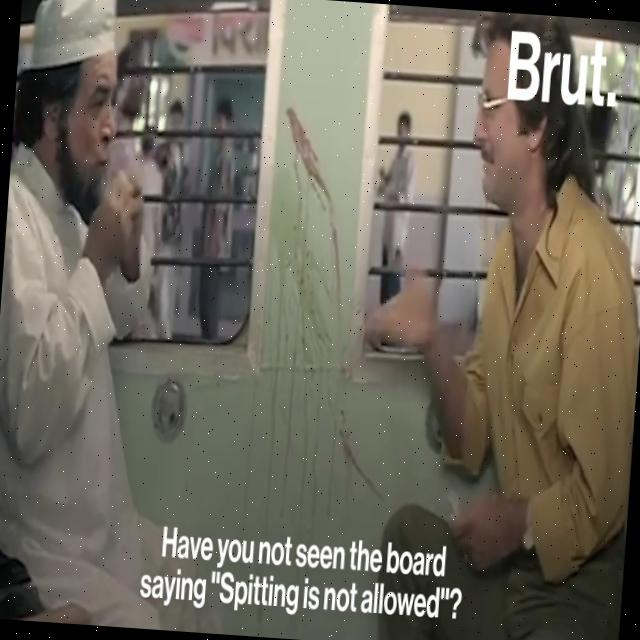spit: (250, 98, 405, 520)
